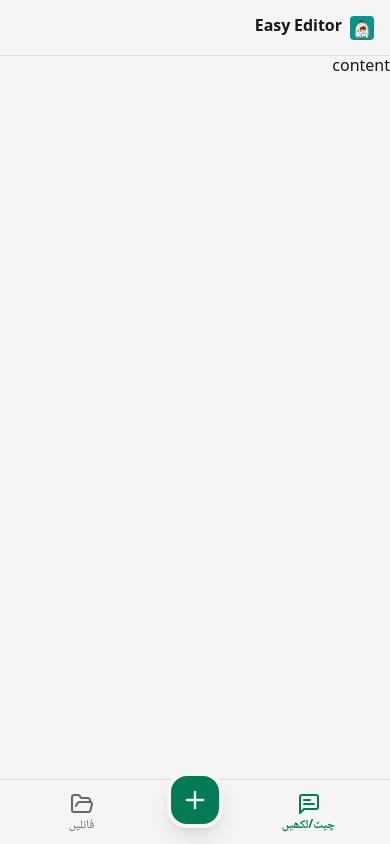
Test: AppLayout mobile tab bar › on desktop with local voice off › drops the jobs that cannot run here rather than leaving buttons that fail
The image size is (390, 844).
Click the button named "نیا کام شروع کریں". click: click(195, 800)
box: x1=167 y1=772 x2=223 y2=828
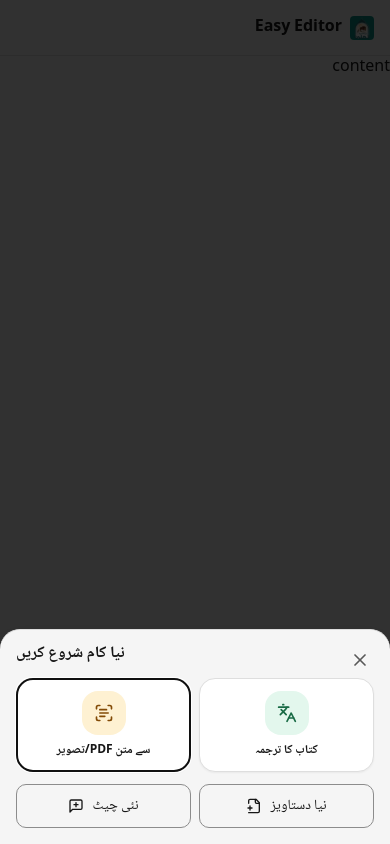
Result: the button "تصویر/PDF سے متن" is shown at x1=16 y1=678 x2=191 y2=772
Result: the button "کتاب کا ترجمہ" is shown at x1=199 y1=678 x2=374 y2=772
Result: the button "نئی چیٹ" is shown at x1=16 y1=784 x2=191 y2=828
